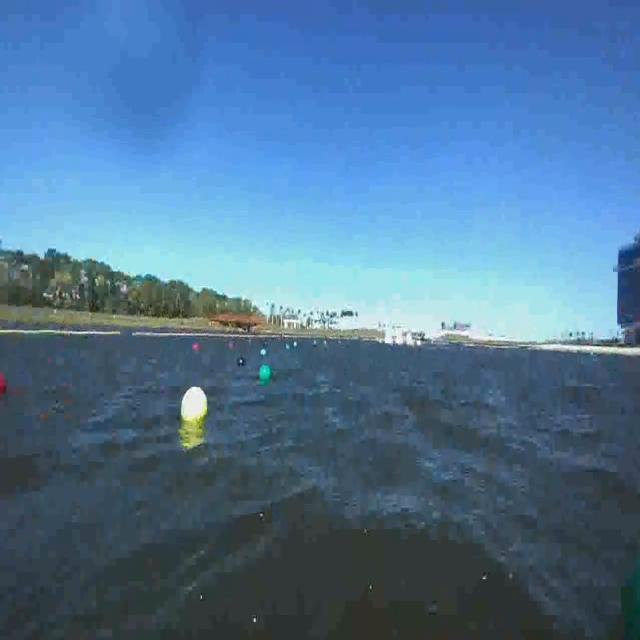black-buoy: (234, 357, 244, 366)
green-buoy: (262, 365, 274, 384)
red-buoy: (0, 372, 6, 397)
yellow-buoy: (181, 388, 207, 426)
